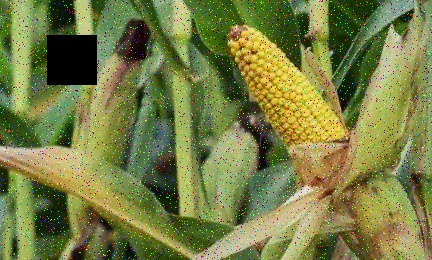corn: (222, 25, 365, 193)
corn_plant: (53, 10, 162, 235)
